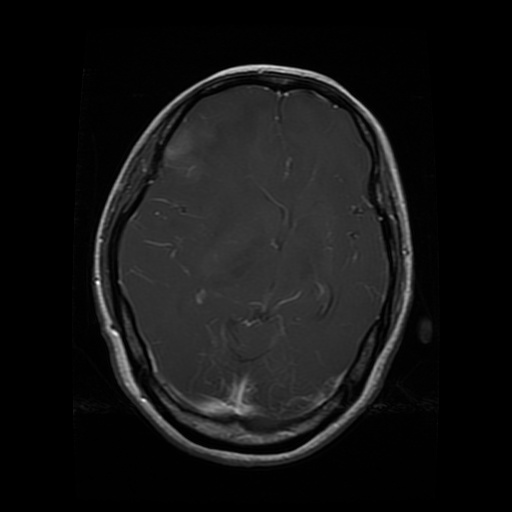glioma: (161, 111, 220, 179)
